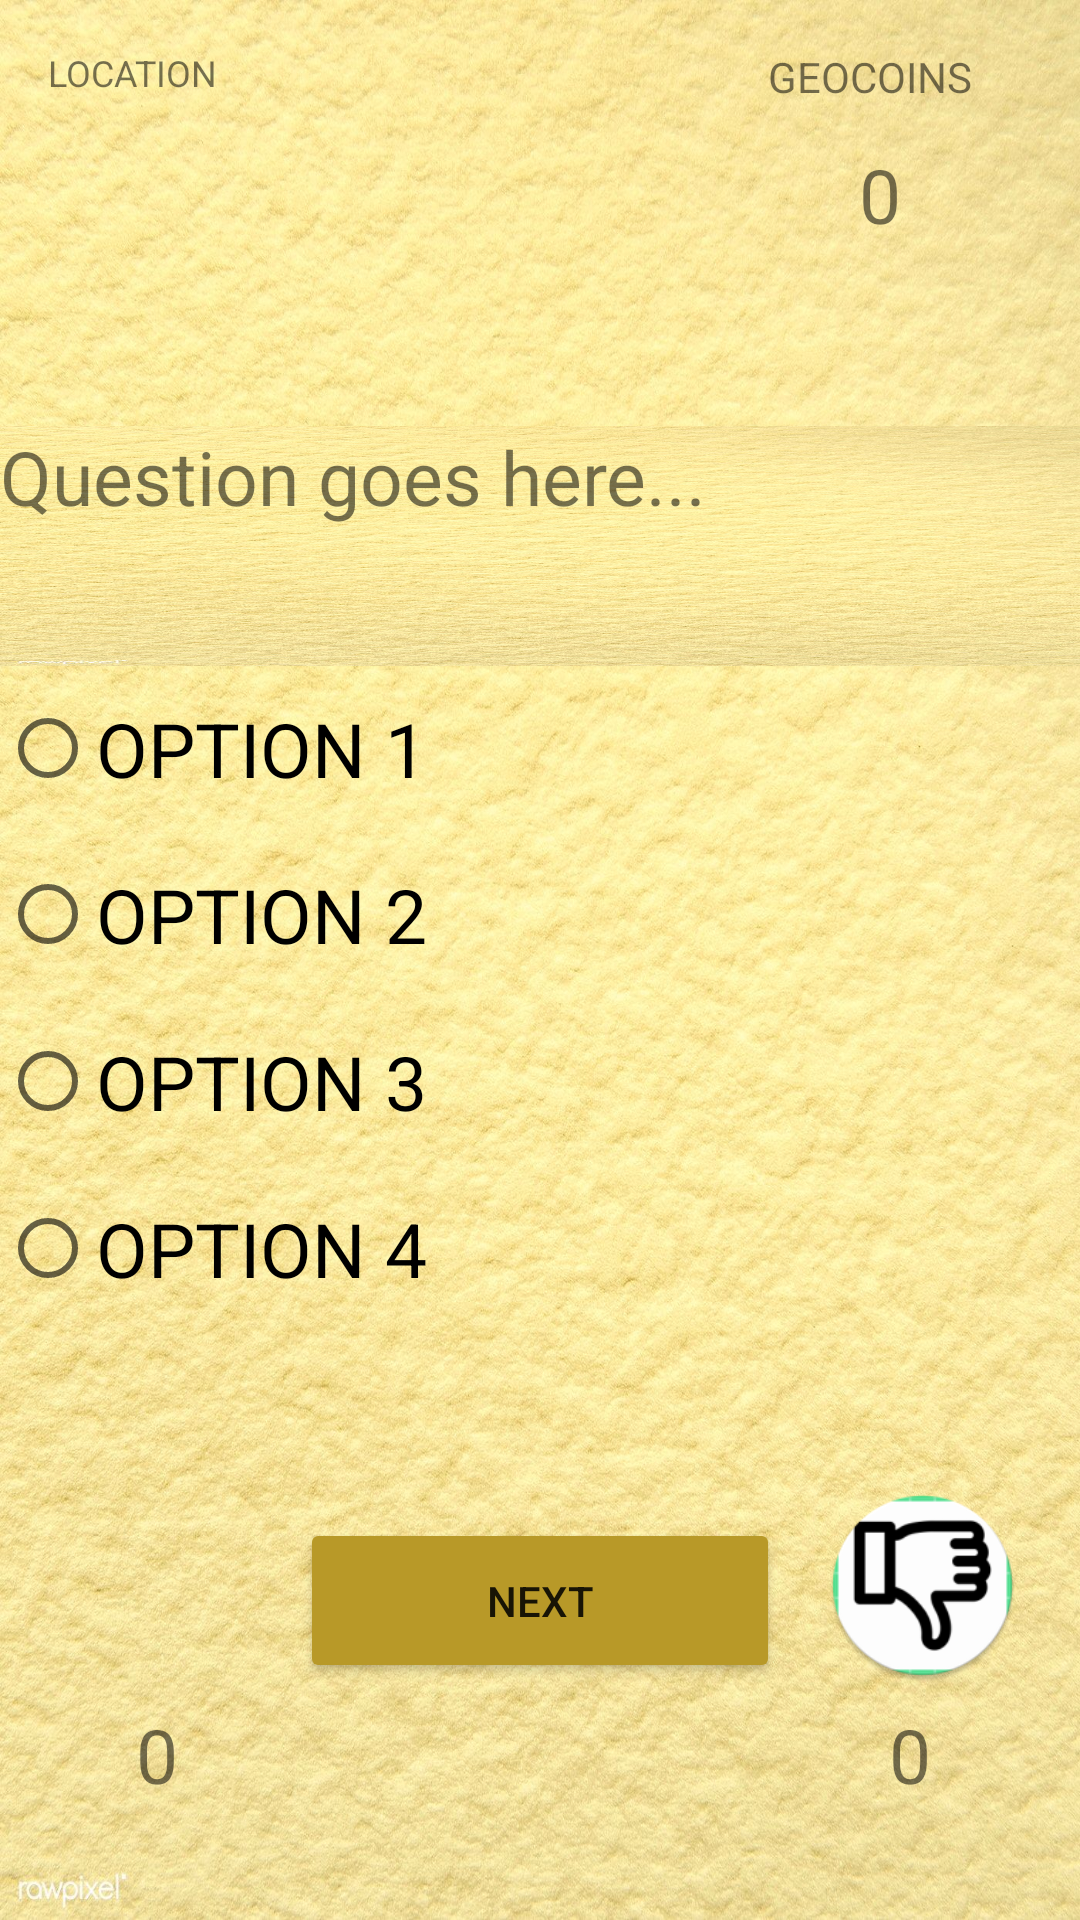

Named icons in this screenshot (1080*1920) and their bounding boxes, (x1, y1, x2, y2):
dislike round: (825, 1443, 1080, 1698)
